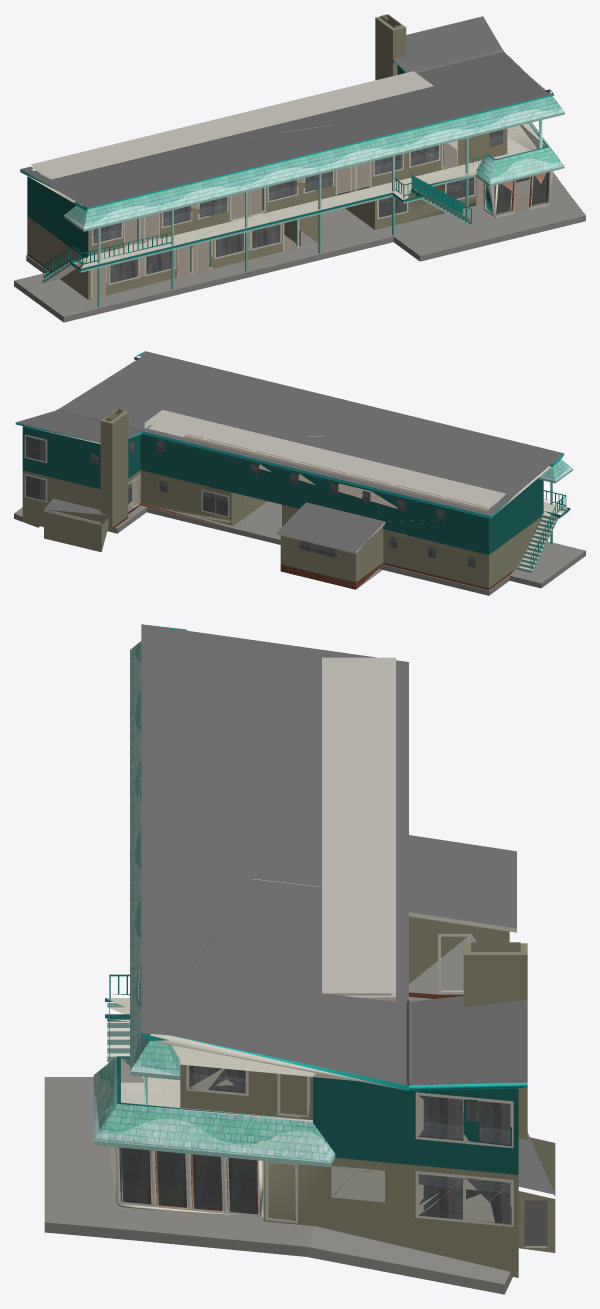
File: roadside-motel.zfix-v14.lod1.glb
The picture shows the model from 3 angles, top to bottom: view 1: azimuth 30°, elevation 25°; view 2: azimuth 150°, elevation 25°; view 3: azimuth 270°, elevation 25°; orthographic projection. The views are drawn at different scales.
Parts seen in each view (by area): view 1: Object_6, Object_5, Object_11, Object_10, Object_8, Object_4; view 2: Object_6, Object_4, Object_8, Object_5, Object_11, Object_10; view 3: Object_6, Object_5, Object_8, Object_11, Object_10, Object_4.
Part boxes in pixels (x1=…): Object_6: x1=14, y1=14, x2=585, y2=322; Object_5: x1=24, y1=77, x2=553, y2=298; Object_11: x1=42, y1=105, x2=564, y2=282; Object_10: x1=64, y1=96, x2=560, y2=307; Object_8: x1=93, y1=89, x2=550, y2=283; Object_4: x1=20, y1=60, x2=553, y2=278; Object_6: x1=14, y1=351, x2=585, y2=595; Object_4: x1=15, y1=351, x2=570, y2=590; Object_8: x1=26, y1=357, x2=475, y2=567; Object_5: x1=24, y1=356, x2=569, y2=570; Object_11: x1=517, y1=461, x2=572, y2=573; Object_10: x1=539, y1=459, x2=569, y2=543; Object_6: x1=44, y1=624, x2=555, y2=1294; Object_5: x1=103, y1=769, x2=524, y2=1226; Object_8: x1=119, y1=1065, x2=510, y2=1223; Object_11: x1=93, y1=646, x2=335, y2=1167; Object_10: x1=99, y1=641, x2=334, y2=1152; Object_4: x1=105, y1=624, x2=527, y2=1214.
Bounding box in the file's own units: 37.03 × 9.34 × 17.02.
6 materials, 5 textured.
